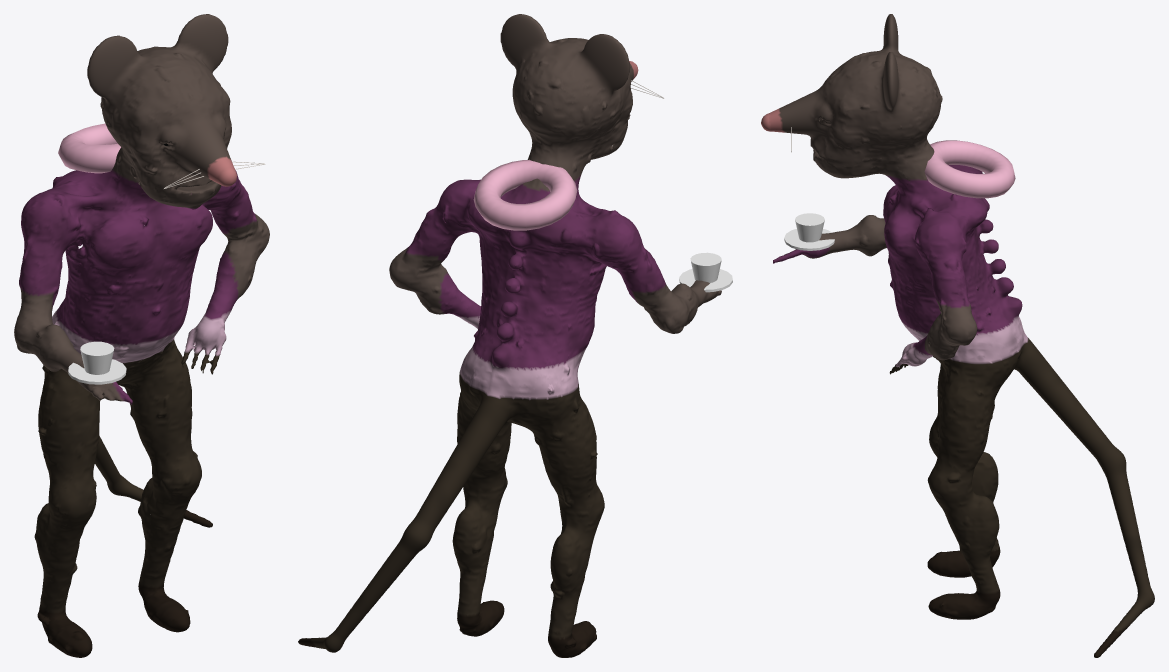
The model's file is gutterkin_gossip.glb.
3 renders of one model, left to right at view 1: azimuth 30°, elevation 25°; view 2: azimuth 150°, elevation 25°; view 3: azimuth 270°, elevation 25°, orthographic. The views are drawn at different scales.
Size of the model in its own units: 0.7276 by 1.45 by 0.9179.
